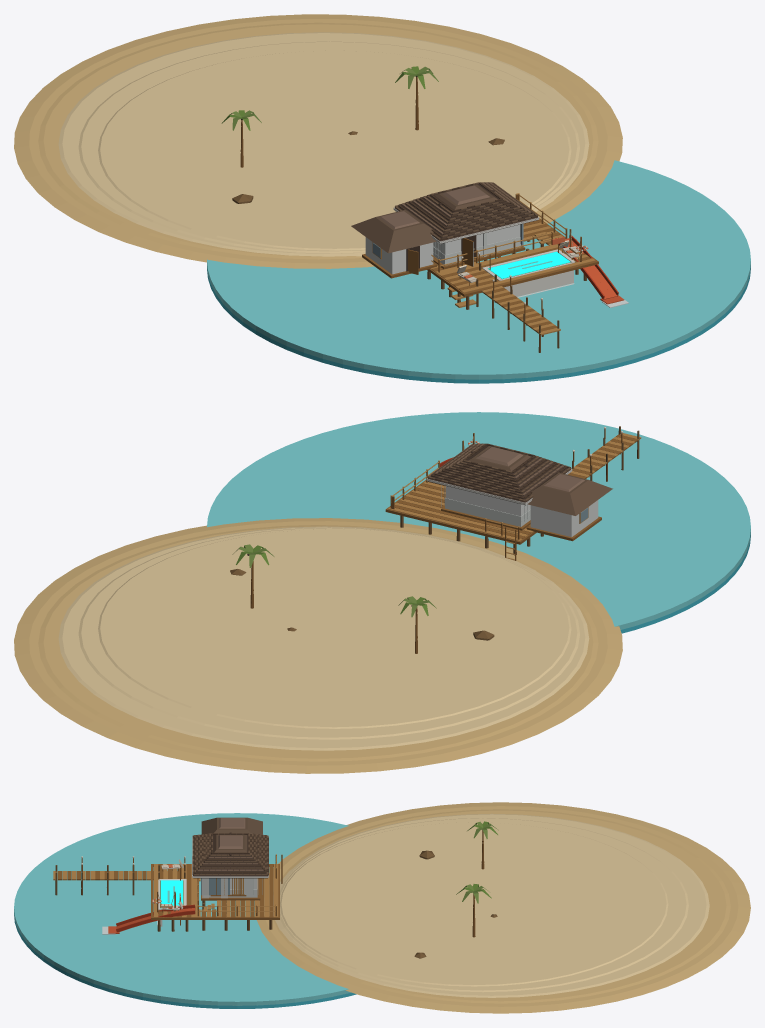
Rendered from bay-maldives-villa.glb.
3 renders of one model, top to bottom at view 1: azimuth 30°, elevation 25°; view 2: azimuth 150°, elevation 25°; view 3: azimuth 270°, elevation 25°, orthographic. The views are drawn at different scales.
Parts seen in each view (by area): view 1: GEO-mv_sand_3, GEO-mv_water, GEO-mv_shore_ring_0, GEO-mv_sand_0, GEO-mv_sand_1, GEO-mv_sand_2, GEO-mv_water_deep, GEO-mv_roof_0, GEO-mv_annex_roof_0, GEO-mv_annex, GEO-mv_pool_water, GEO-mv_house (+2 smaller); view 2: GEO-mv_sand_3, GEO-mv_water, GEO-mv_shore_ring_0, GEO-mv_sand_0, GEO-mv_sand_1, GEO-mv_sand_2, GEO-mv_roof_0, GEO-mv_annex_roof_0, GEO-mv_annex, GEO-mv_house, GEO-mv_house_warm, GEO-mv_water_deep; view 3: GEO-mv_sand_3, GEO-mv_water, GEO-mv_shore_ring_0, GEO-mv_sand_0, GEO-mv_sand_1, GEO-mv_sand_2, GEO-mv_water_deep, GEO-mv_roof_0, GEO-mv_annex_roof_0, GEO-mv_pool_water, GEO-mv_glass_front.
Part boxes in pixels (left/top/right/bottom): GEO-mv_sand_3: left=98, top=50, right=571, bottom=250; GEO-mv_water: left=207, top=160, right=750, bottom=379; GEO-mv_shore_ring_0: left=14, top=14, right=622, bottom=268; GEO-mv_sand_0: left=38, top=22, right=598, bottom=259; GEO-mv_sand_1: left=58, top=32, right=589, bottom=256; GEO-mv_sand_2: left=78, top=41, right=579, bottom=253; GEO-mv_water_deep: left=207, top=266, right=750, bottom=383; GEO-mv_roof_0: left=398, top=184, right=536, bottom=240; GEO-mv_annex_roof_0: left=351, top=210, right=436, bottom=253; GEO-mv_annex: left=365, top=237, right=433, bottom=274; GEO-mv_pool_water: left=488, top=251, right=570, bottom=278; GEO-mv_house: left=433, top=224, right=520, bottom=254; GEO-mv_sand_3: left=98, top=529, right=571, bottom=728; GEO-mv_water: left=207, top=412, right=750, bottom=629; GEO-mv_shore_ring_0: left=14, top=518, right=622, bottom=773; GEO-mv_sand_0: left=38, top=525, right=598, bottom=761; GEO-mv_sand_1: left=58, top=526, right=589, bottom=750; GEO-mv_sand_2: left=78, top=527, right=579, bottom=739; GEO-mv_roof_0: left=429, top=445, right=567, bottom=501; GEO-mv_annex_roof_0: left=527, top=472, right=612, bottom=515; GEO-mv_annex: left=530, top=500, right=598, bottom=537; GEO-mv_house: left=445, top=486, right=530, bottom=516; GEO-mv_house_warm: left=445, top=498, right=530, bottom=526; GEO-mv_water_deep: left=620, top=534, right=750, bottom=633; GEO-mv_sand_3: left=280, top=822, right=668, bottom=986; GEO-mv_water: left=14, top=813, right=350, bottom=1005; GEO-mv_shore_ring_0: left=257, top=802, right=750, bottom=1013; GEO-mv_sand_0: left=273, top=809, right=730, bottom=1003; GEO-mv_sand_1: left=273, top=813, right=709, bottom=997; GEO-mv_sand_2: left=280, top=818, right=688, bottom=992; GEO-mv_water_deep: left=14, top=913, right=356, bottom=1008; GEO-mv_roof_0: left=194, top=834, right=267, bottom=875; GEO-mv_annex_roof_0: left=201, top=817, right=262, bottom=834; GEO-mv_pool_water: left=160, top=880, right=183, bottom=908; GEO-mv_glass_front: left=201, top=878, right=229, bottom=895.
Size of the model in its own units: 44.8 by 7.84 by 66.
